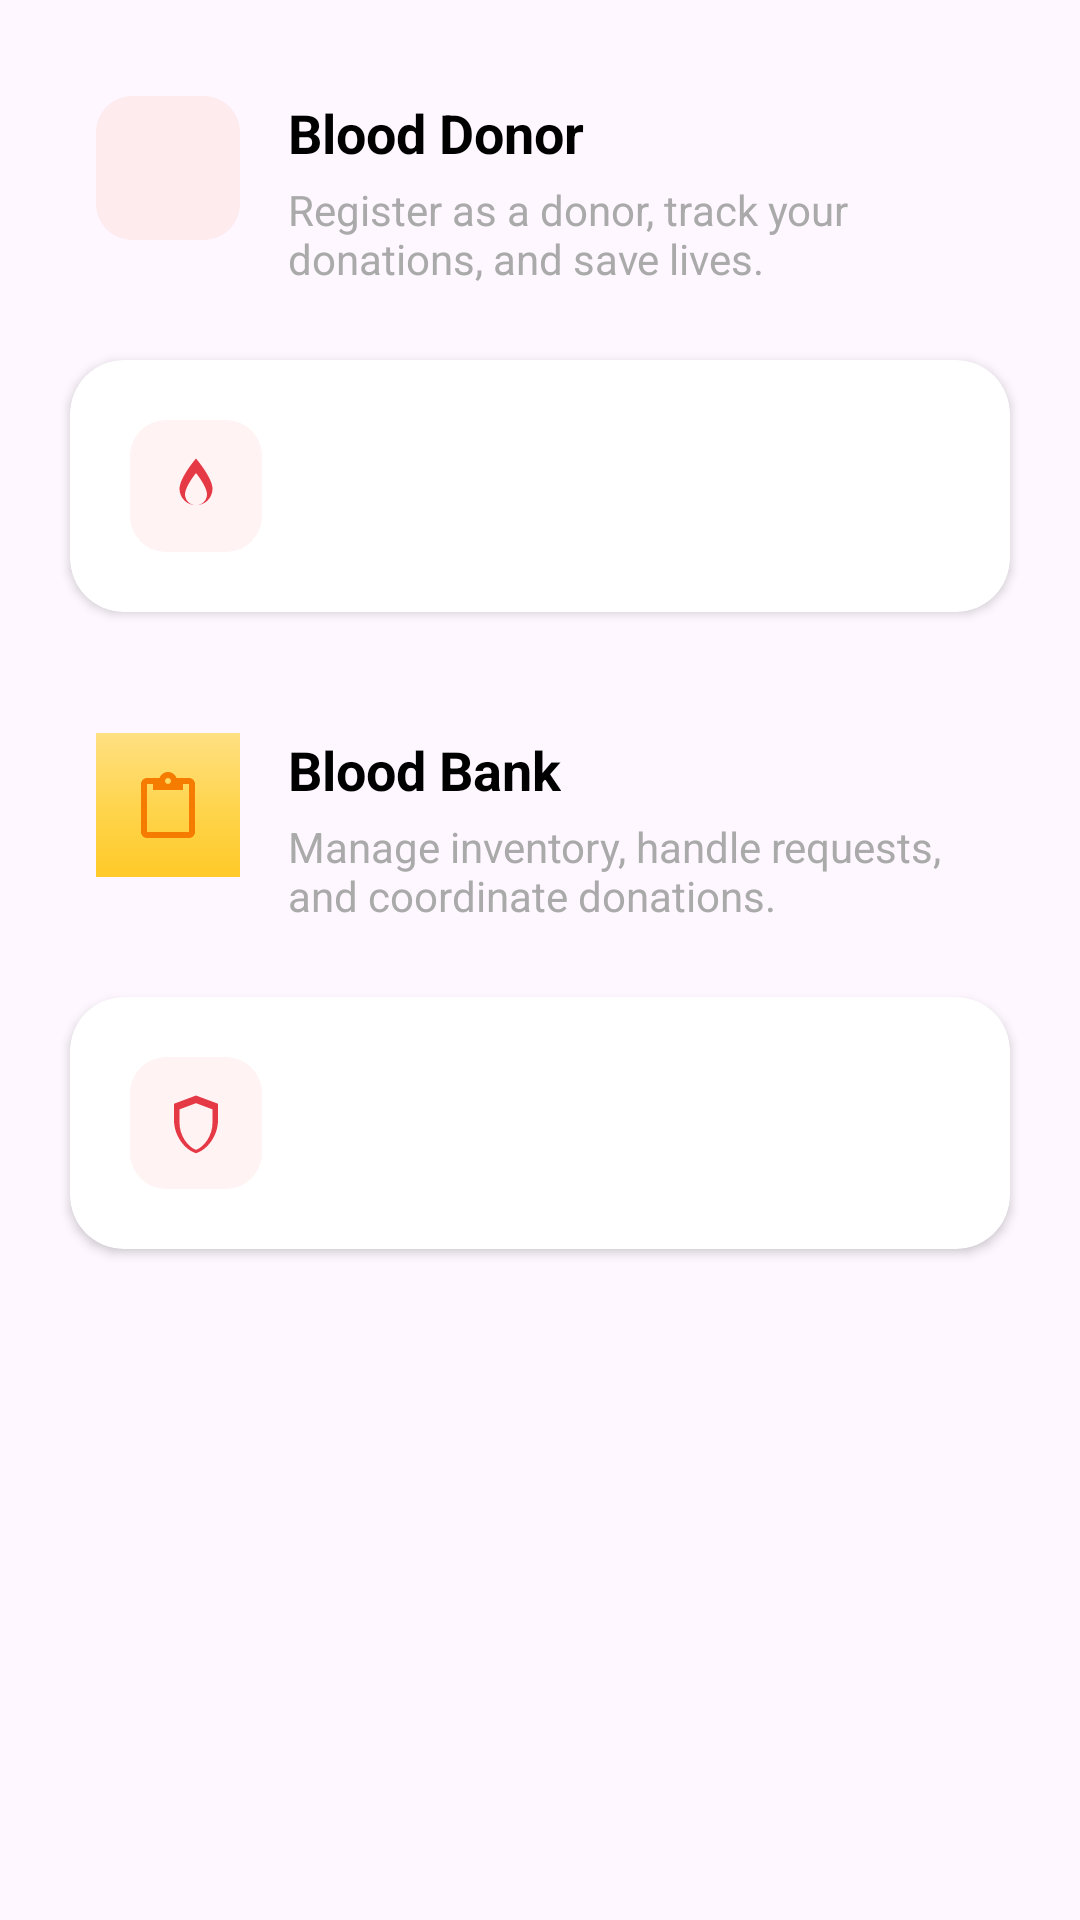

Where icons sit on this 1080 x 1920 app screen, as Rect(x1, y1, x2, y2):
drop: Rect(179, 459, 213, 505)
shield: Rect(174, 1095, 218, 1153)
